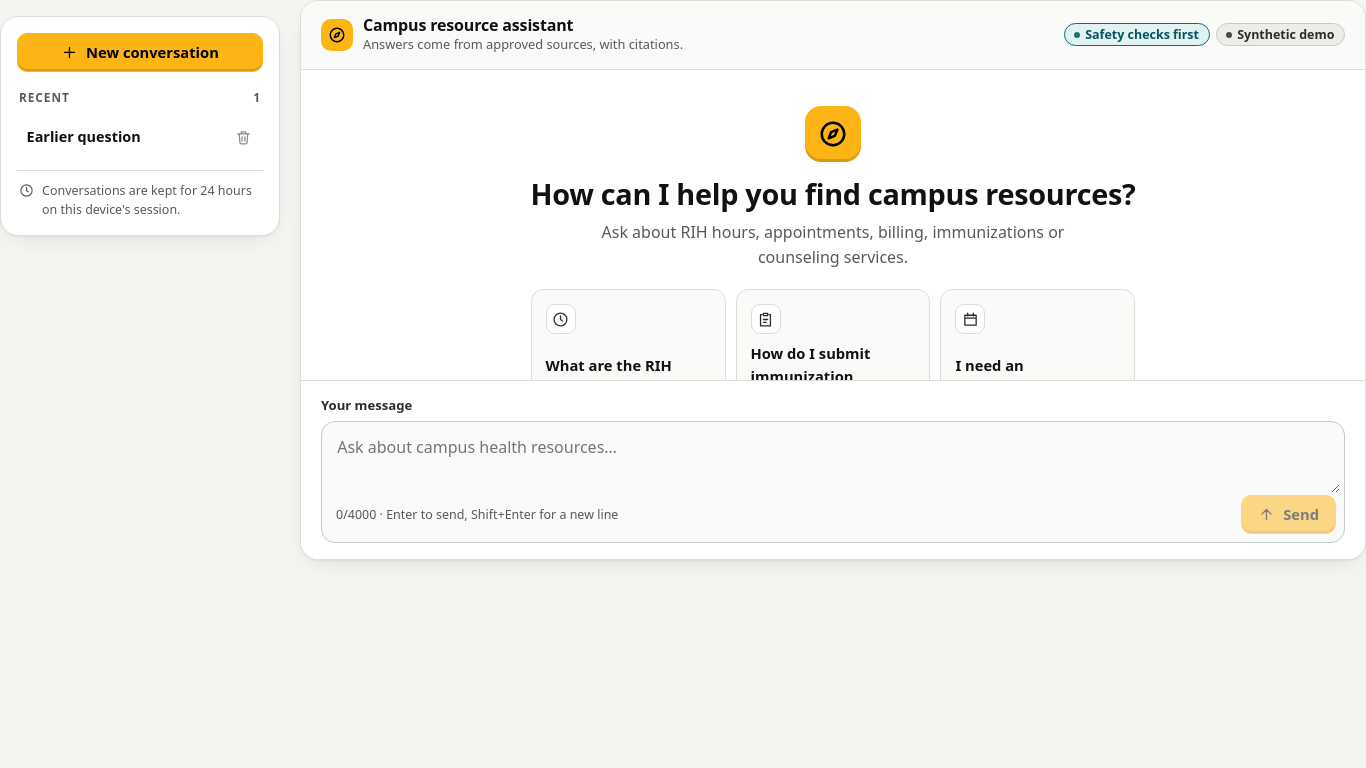
Test: ChatView › loads and deletes saved conversations
Click the button "Earlier question".
click(122, 138)  # box [17,118,227,158]
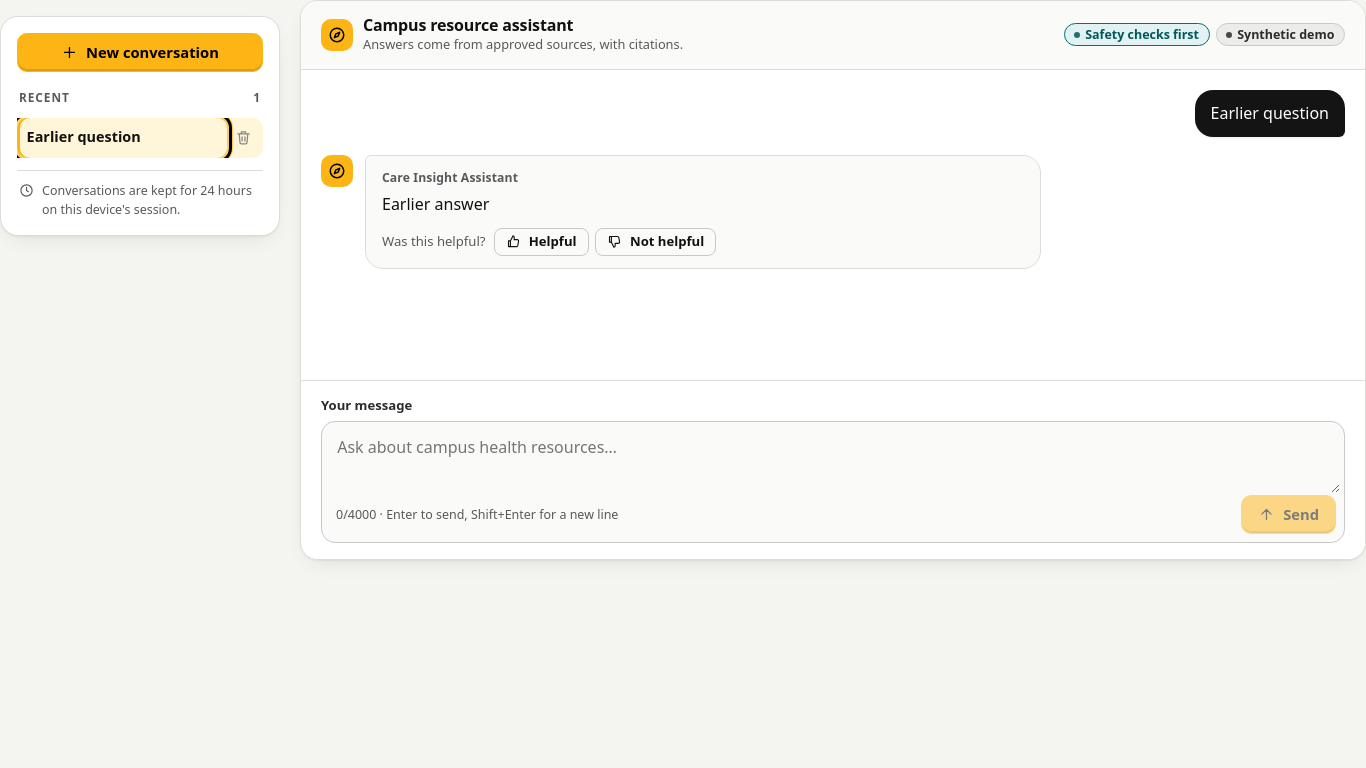
Expected: the text "Earlier answer" is shown, [382,193,489,215]
Click the button named "delete conversation: earlier question".
click(244, 138)  # box [229,123,259,153]
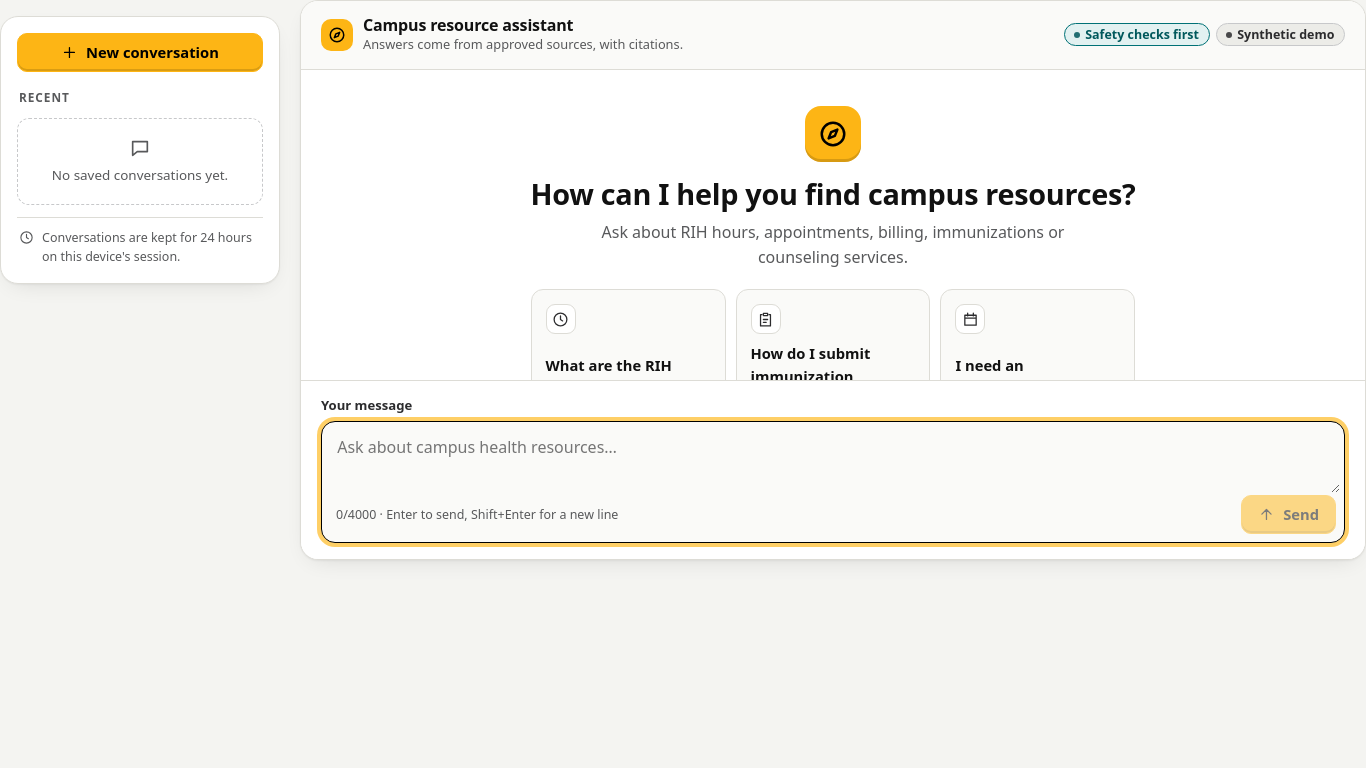
Expected: the text "No saved conversations yet." is shown, [52,165,228,186]
